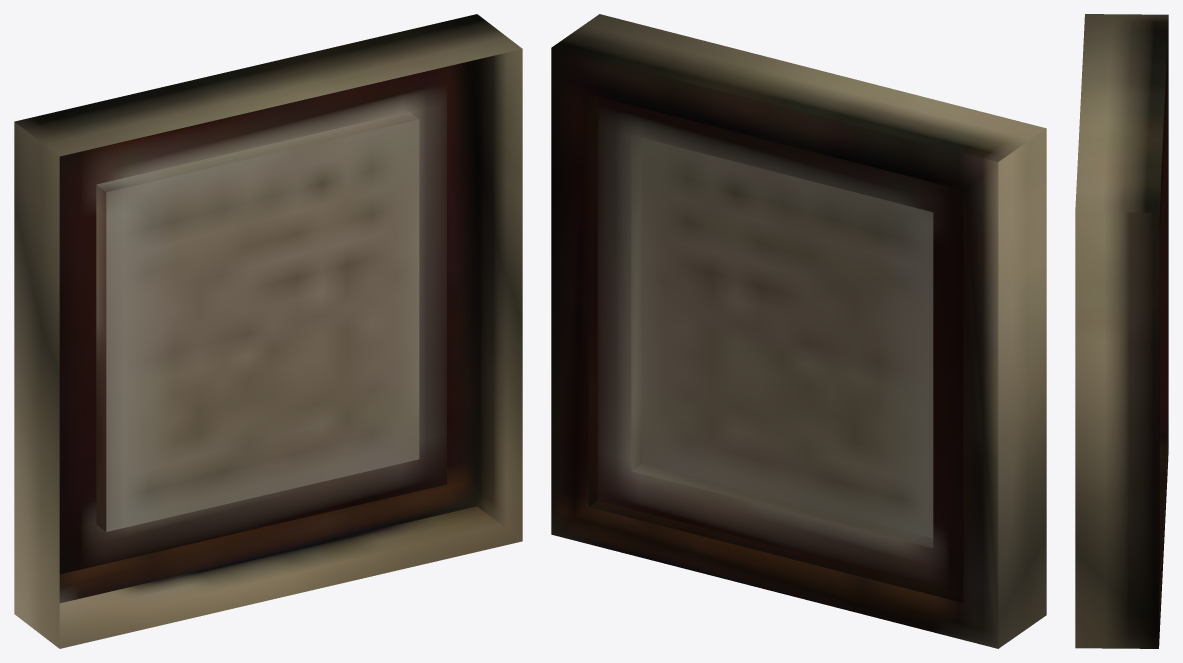
Rendered from OparetionRoom_AI_Prop.038.fbx.
3 renders of one model, left to right at view 1: azimuth 30°, elevation 25°; view 2: azimuth 150°, elevation 25°; view 3: azimuth 270°, elevation 25°, orthographic. The views are drawn at different scales.
Parts seen in each view (by area): view 1: OparetionRoom_AI_Prop.038; view 2: OparetionRoom_AI_Prop.038; view 3: OparetionRoom_AI_Prop.038.
Boxes of the visible parts, x1,y1,x2,y2 form: OparetionRoom_AI_Prop.038: (14,14,522,648); OparetionRoom_AI_Prop.038: (551,14,1046,648); OparetionRoom_AI_Prop.038: (1075,14,1168,648).
Bounding box in the file's own units: 52.49 × 53.76 × 10.43.
